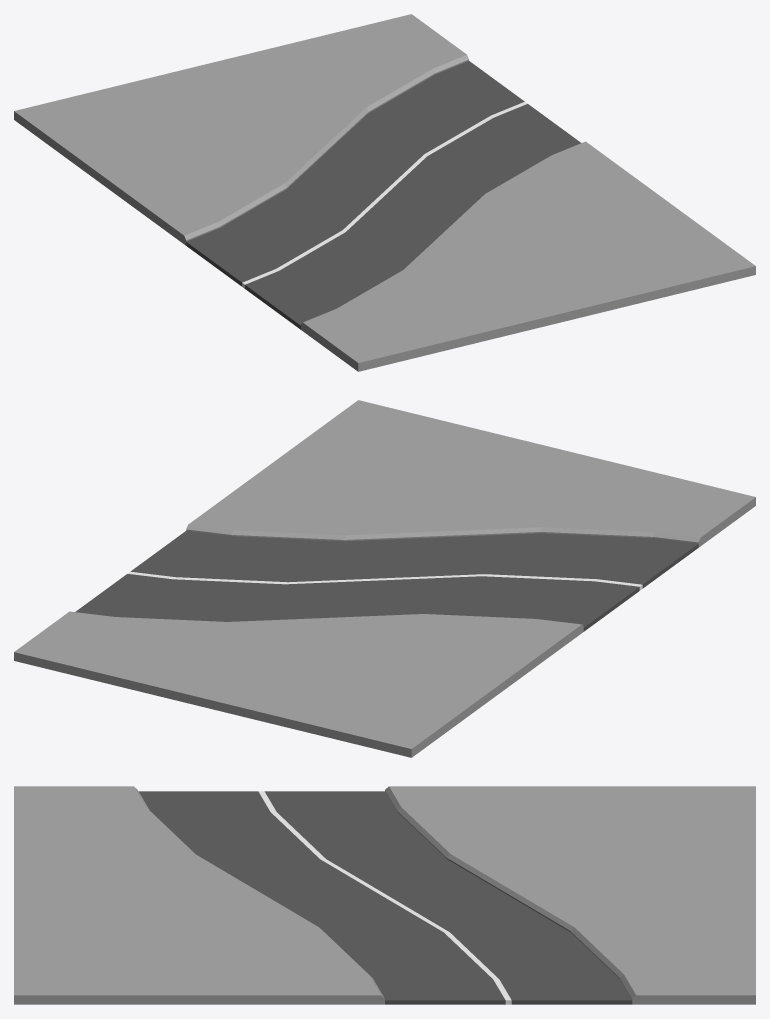
Rendered from roadCurve.fbx.
The picture shows the model from 3 angles, top to bottom: view 1: azimuth 30°, elevation 25°; view 2: azimuth 150°, elevation 25°; view 3: azimuth 270°, elevation 25°; orthographic projection. The views are drawn at different scales.
Visible parts, largest first — view 1: RoadCurve; view 2: RoadCurve; view 3: RoadCurve.
Boxes of the visible parts, x1,y1,x2,y2 form: RoadCurve: (14, 14, 755, 371); RoadCurve: (14, 400, 755, 757); RoadCurve: (14, 786, 755, 1004).
Size of the model in its own units: 2000 by 42.29 by 3000.
